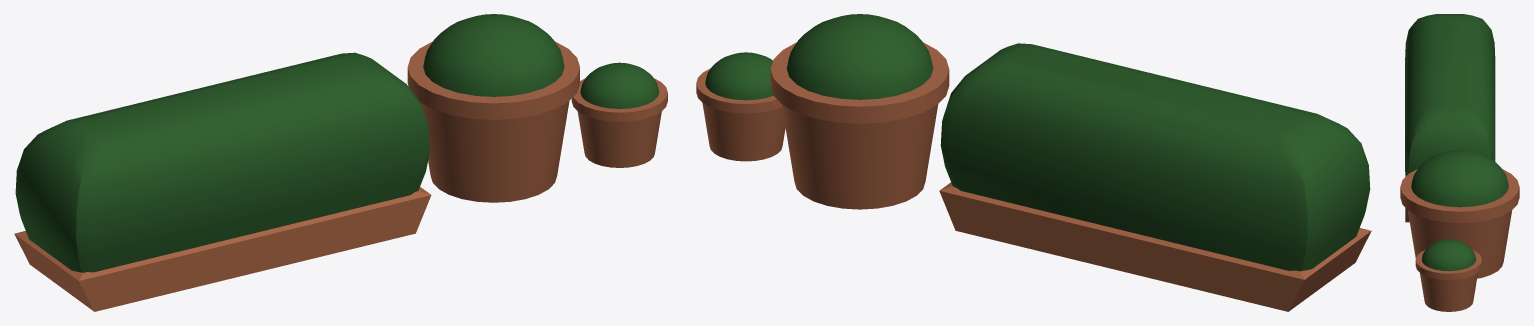
Rendered from object_B1_Plants_001.glb.
3 renders of one model, left to right at view 1: azimuth 30°, elevation 25°; view 2: azimuth 150°, elevation 25°; view 3: azimuth 270°, elevation 25°, orthographic. The views are drawn at different scales.
Parts seen in each view (by area): view 1: B1 Plants.001; view 2: B1 Plants.001; view 3: B1 Plants.001.
Boxes of the visible parts, <box> form: B1 Plants.001: <box>14,14,667,311</box>; B1 Plants.001: <box>696,14,1371,311</box>; B1 Plants.001: <box>1400,14,1519,311</box>.
Size of the model in its own units: 1.1 by 0.2615 by 0.2665.
